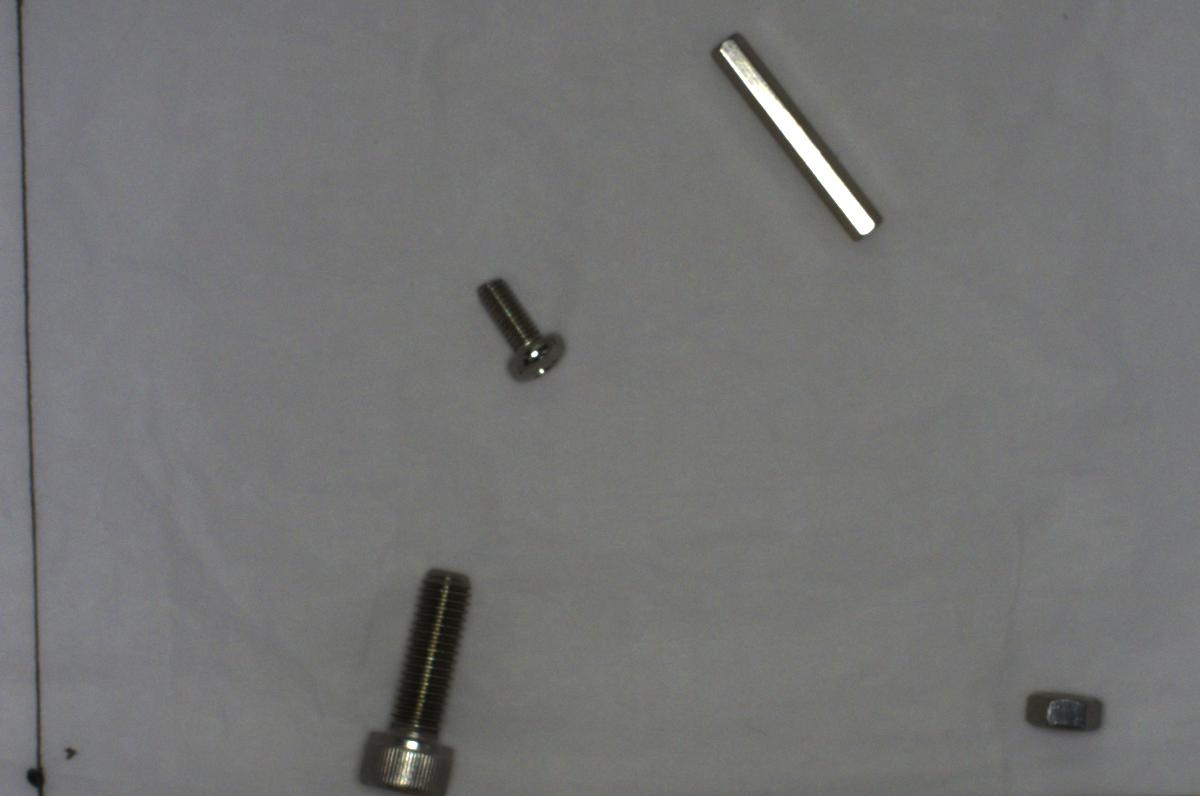Double hexagonal column: (708, 21, 891, 245)
Hexagon nut: (1025, 680, 1112, 740)
Hexagon screw: (355, 561, 470, 795)
Round head screw: (459, 266, 580, 383)
